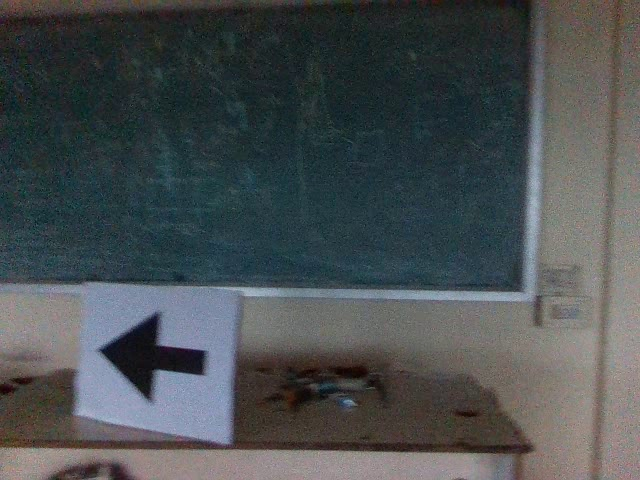Left: (92, 307, 215, 401)
